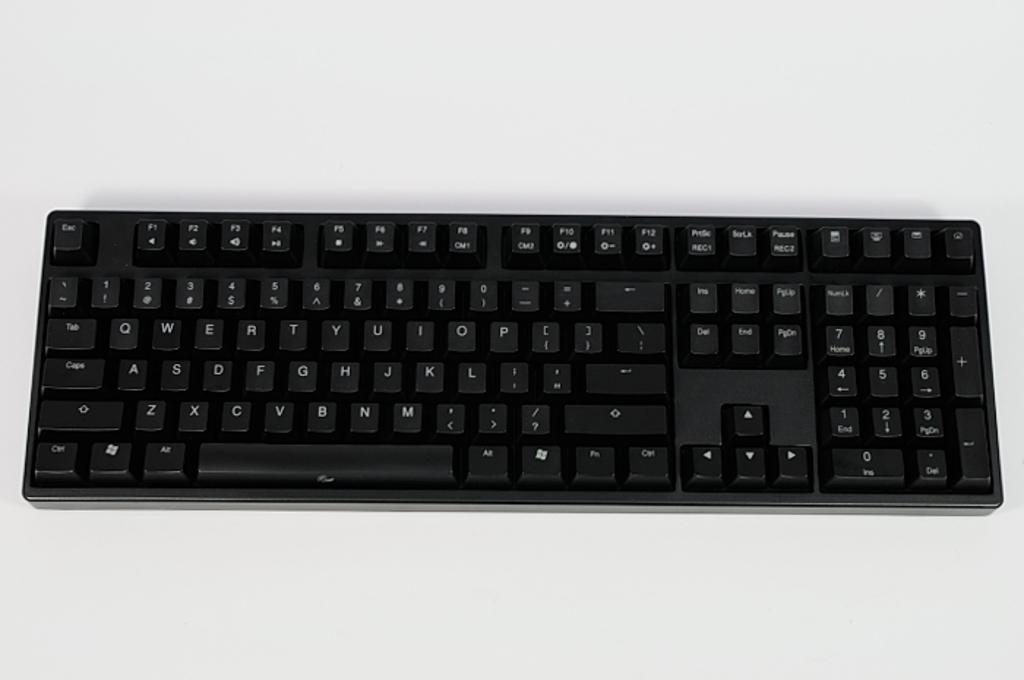Computer-keyboard: (19, 206, 1008, 516)
